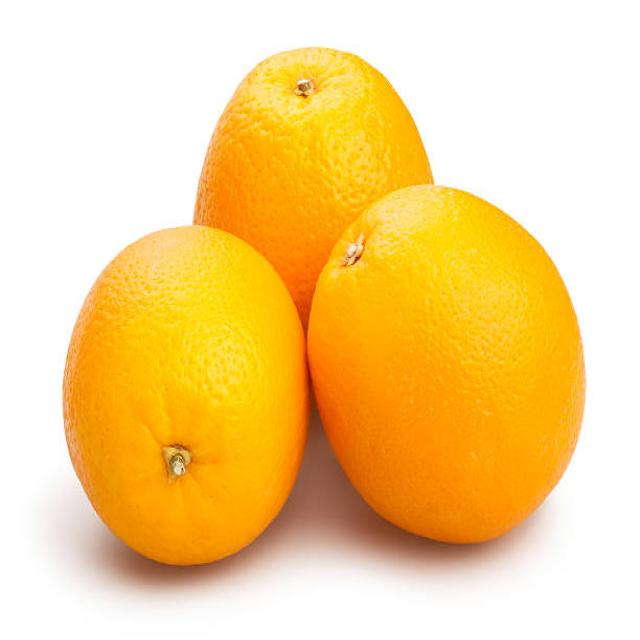Good_Orange: (306, 185, 589, 547), (61, 224, 313, 569), (191, 47, 435, 328)
